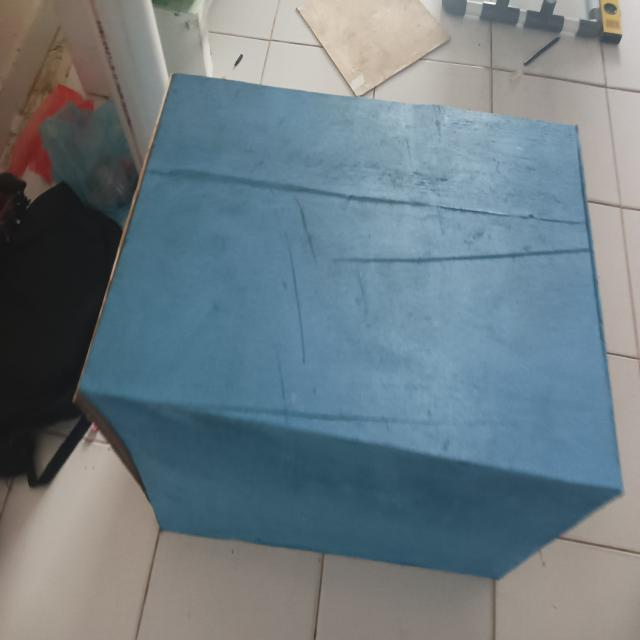blue_box: (97, 78, 640, 639)
